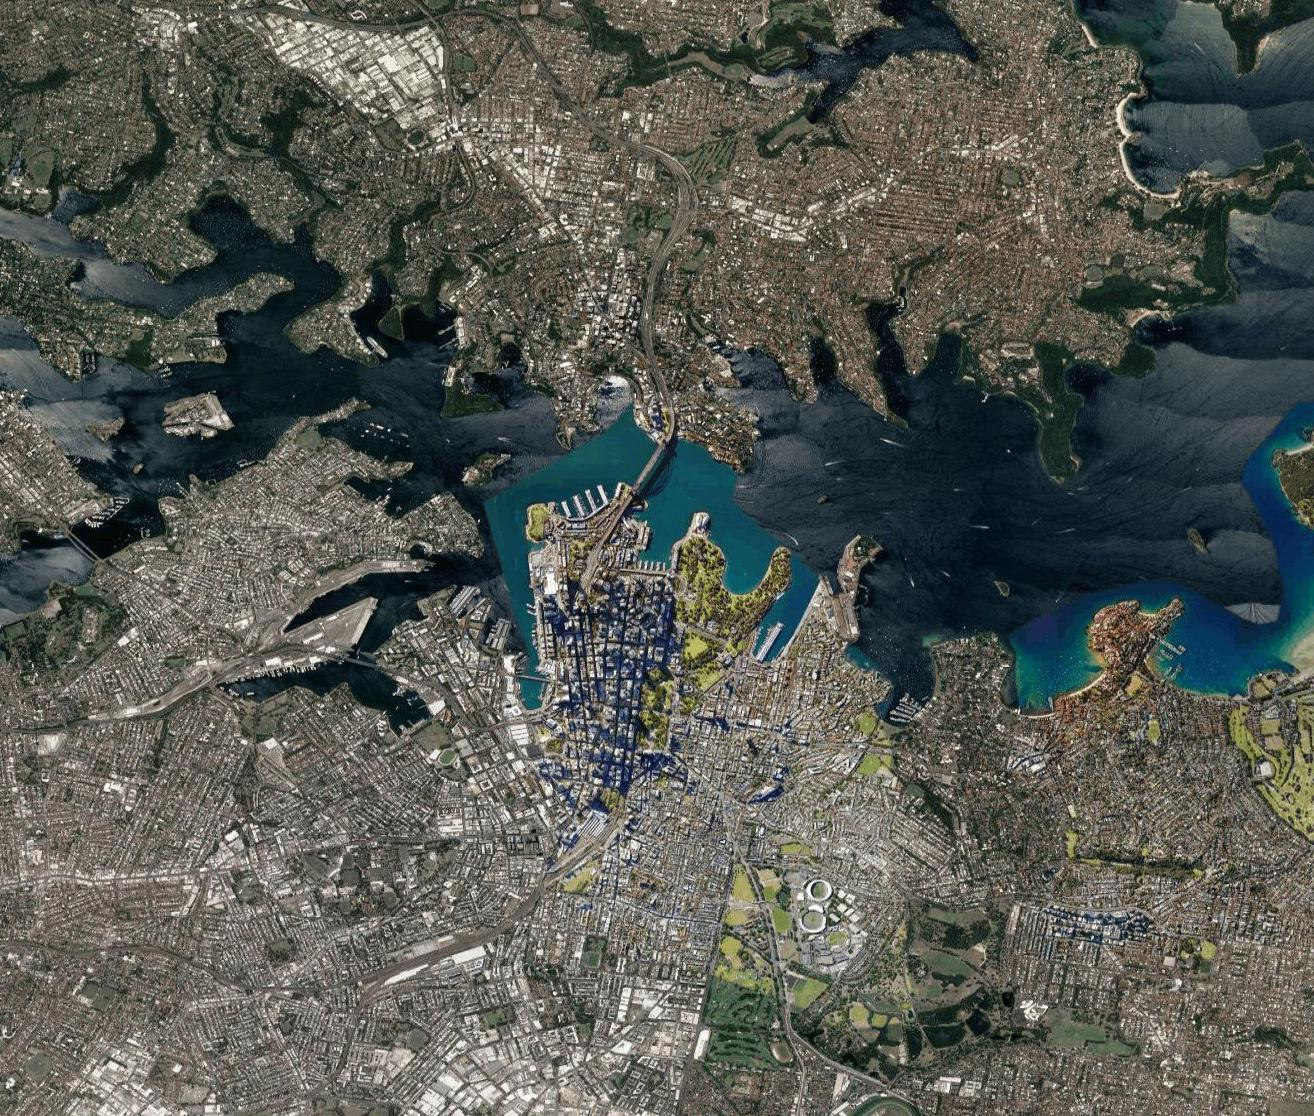bridge: (634, 438, 670, 487)
harbor: (542, 482, 689, 583), (232, 650, 332, 690), (884, 684, 928, 731), (80, 489, 130, 529), (755, 614, 794, 662), (523, 598, 547, 666)
industrial: (283, 23, 426, 115), (417, 1048, 526, 1116), (73, 1064, 190, 1116)
motorway: (536, 64, 604, 133), (601, 131, 683, 179), (640, 288, 672, 400), (607, 464, 651, 536), (256, 2, 368, 29), (371, 4, 483, 31), (490, 7, 542, 61), (651, 401, 686, 464), (645, 234, 675, 291), (671, 170, 693, 237)
